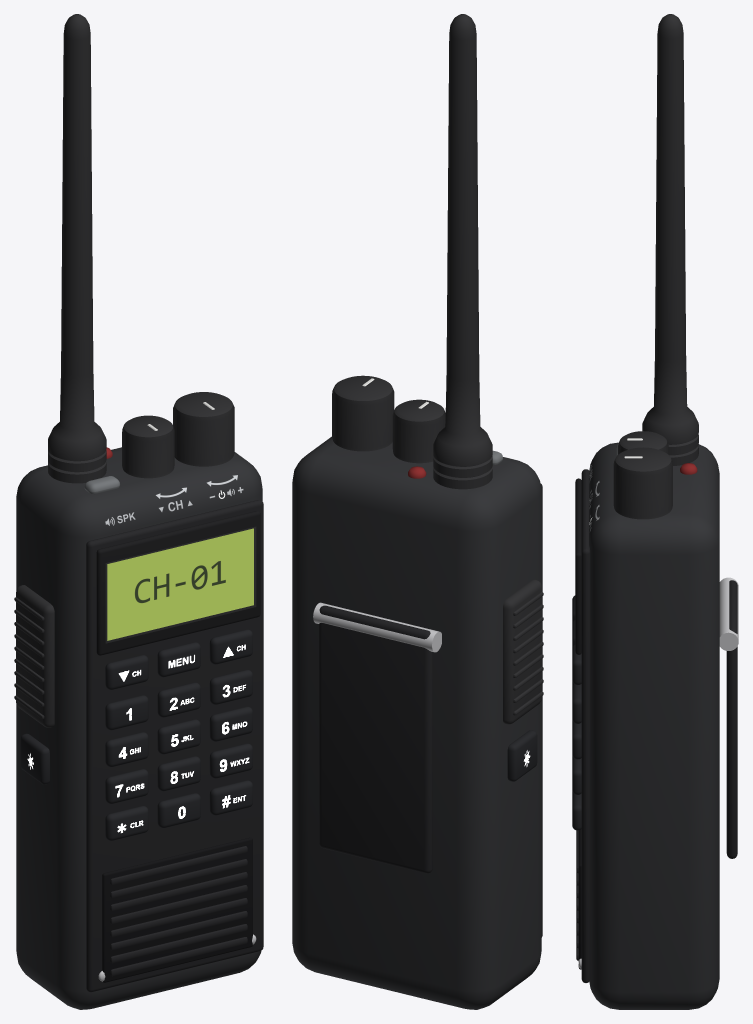
The model's file is radio.glb.
3 views of the same model, side by side, from view 1: azimuth 30°, elevation 25°; view 2: azimuth 150°, elevation 25°; view 3: azimuth 270°, elevation 25° (orthographic). The views are drawn at different scales.
Parts seen in each view (by area): view 1: radio_body, radio_faceplate, antenna, screen, radio_grille, radio_grille_slats, radio_bezel, btn_ptt, knob_volume, knob_channel, key_0, key_4 (+14 smaller); view 2: radio_body, radio_clip, antenna, btn_ptt, knob_volume, knob_channel, radio_clip_hinge, btn_side, radio_faceplate; view 3: radio_body, antenna, radio_faceplate, knob_volume, radio_clip, radio_bezel, radio_clip_hinge, knob_channel, radio_grille.
Boxes of the visible parts, x1,y1,x2,y2 form: radio_body: (16, 447, 262, 1009); radio_faceplate: (86, 500, 263, 992); antenna: (48, 14, 106, 483); screen: (107, 528, 253, 640); radio_grille: (102, 837, 252, 982); radio_grille_slats: (110, 846, 247, 976); radio_bezel: (96, 511, 260, 655); btn_ptt: (14, 585, 54, 727); knob_volume: (173, 392, 234, 466); knob_channel: (122, 415, 174, 478); key_0: (157, 793, 200, 828); key_4: (105, 732, 148, 767); radio_body: (292, 436, 541, 1009); radio_clip: (319, 605, 432, 873); antenna: (433, 14, 492, 489); btn_ptt: (503, 579, 543, 724); knob_volume: (332, 375, 394, 451); knob_channel: (392, 399, 445, 463); radio_clip_hinge: (313, 602, 441, 652); btn_side: (507, 730, 537, 781); radio_faceplate: (540, 483, 542, 937); radio_body: (589, 442, 719, 1009); antenna: (642, 14, 698, 465); radio_faceplate: (581, 469, 590, 982); knob_volume: (613, 447, 672, 519); radio_clip: (726, 580, 737, 858); radio_bezel: (575, 478, 581, 654); radio_clip_hinge: (719, 577, 738, 650); knob_channel: (618, 431, 668, 454); radio_grille: (578, 829, 581, 969).
Size of the model in its own units: 0.0652 by 0.2836 by 0.0459.
13 materials, 3 textured.
